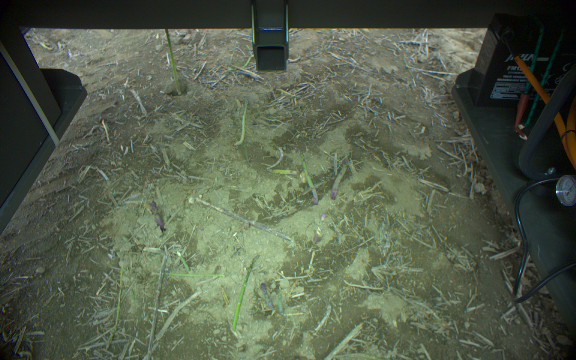aspa: (232, 253, 259, 331), (108, 264, 124, 349), (164, 29, 181, 93), (299, 153, 319, 203), (329, 159, 349, 197), (151, 270, 228, 279), (149, 199, 166, 233), (236, 100, 247, 147), (175, 250, 192, 275), (259, 281, 274, 309), (275, 285, 284, 316), (266, 166, 299, 174)
